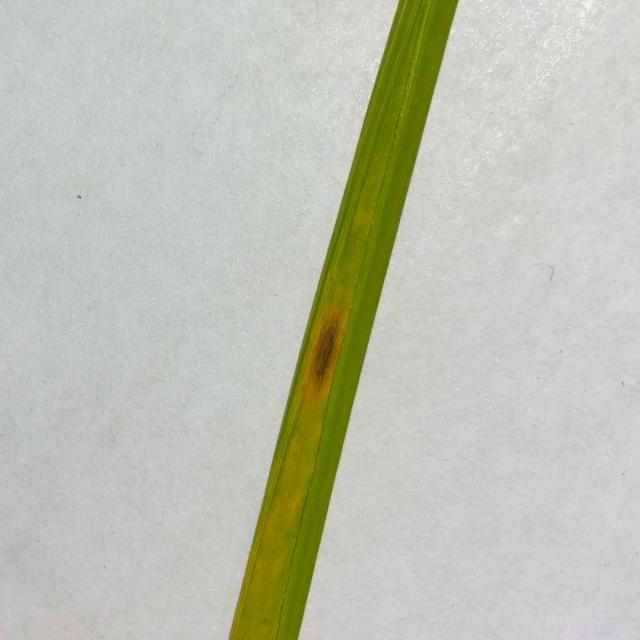brownspots: (302, 305, 355, 398)
